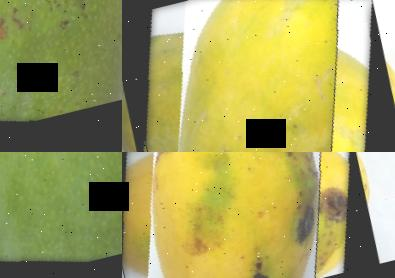PartiallyRipe: (122, 0, 395, 152)
Ripe: (122, 152, 376, 278)
Unripe: (0, 0, 122, 149), (0, 152, 122, 278)
